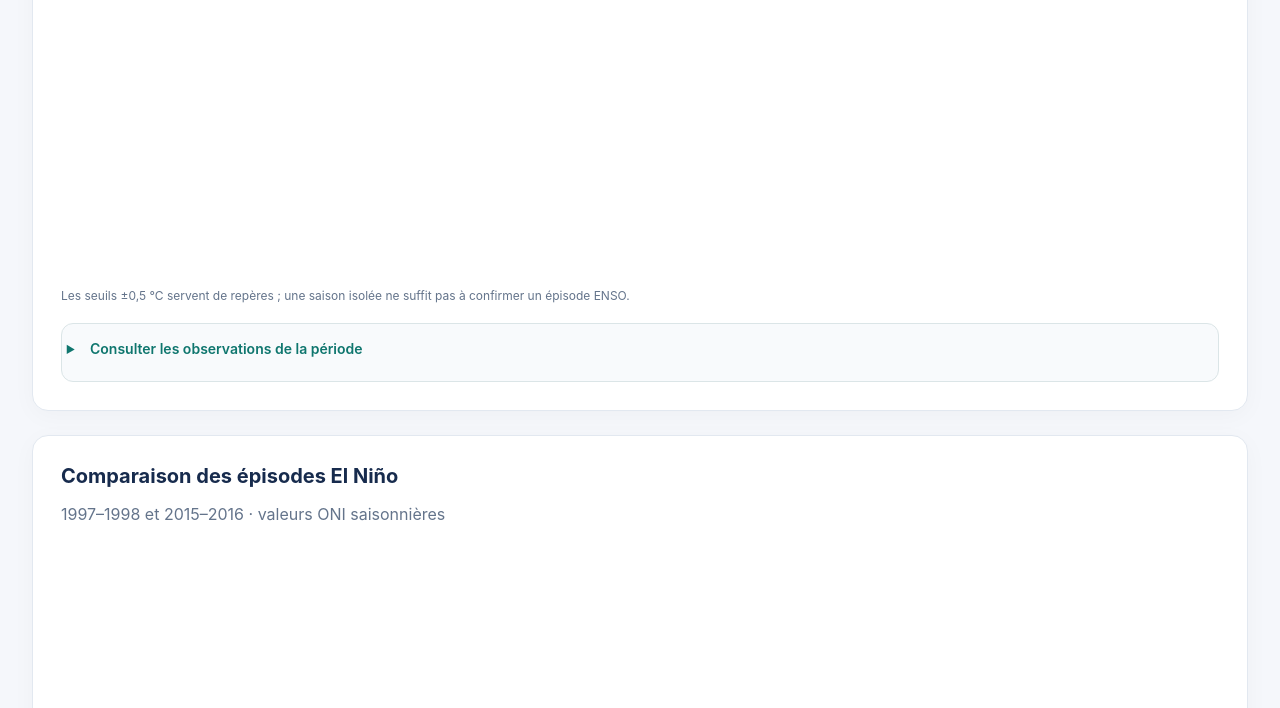
Test: ENSO Monitor dashboard › pagine le tableau accessible au-delà de douze observations
(page scrolled)
Click the heading "Consulter les observations de la période": point(226, 348) left=90, top=340, right=363, bottom=357
(page scrolled)
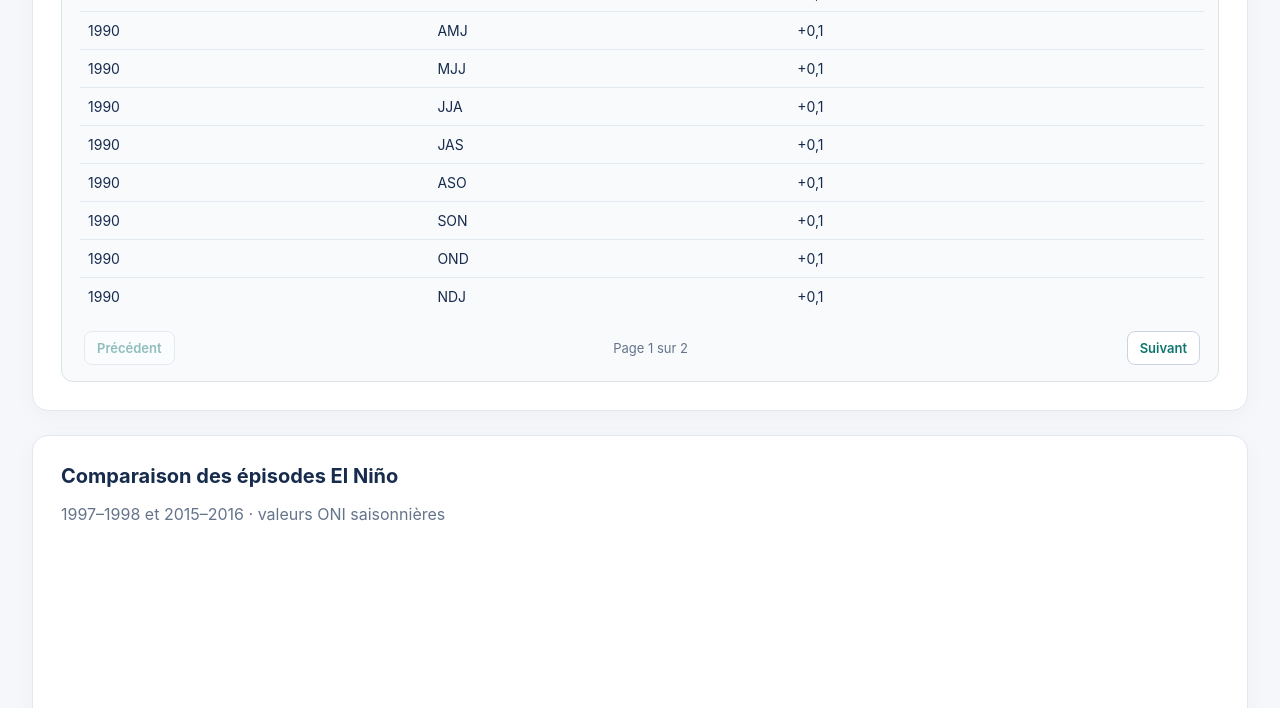
Result: the text "Page 1 sur 2" is shown at left=613, top=340, right=688, bottom=356
Click the button "Suivant": point(1163, 348) left=1127, top=331, right=1200, bottom=365
(page scrolled)
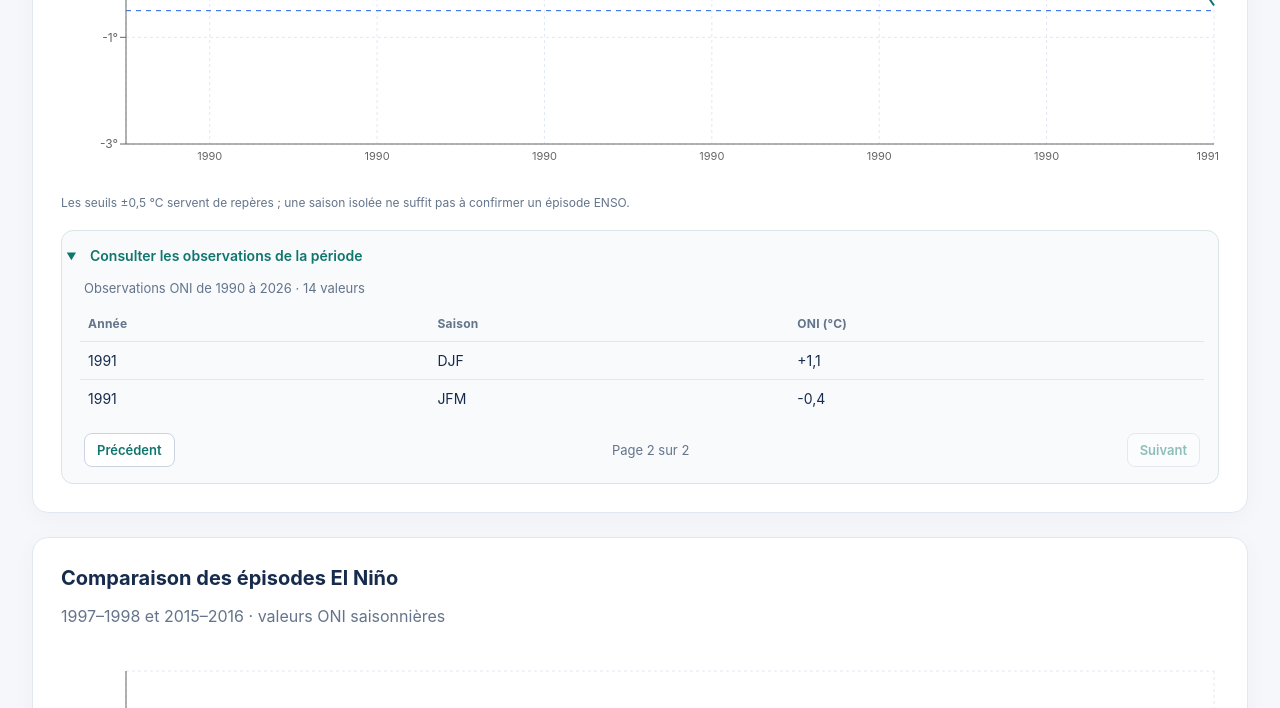
Result: the text "Page 2 sur 2" is shown at left=612, top=442, right=689, bottom=458
Result: the table shows "+1,1" at left=797, top=352, right=821, bottom=369
Result: the table shows "-0,4" at left=797, top=390, right=825, bottom=407
